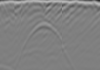hyperbola: (20, 20, 73, 66)
